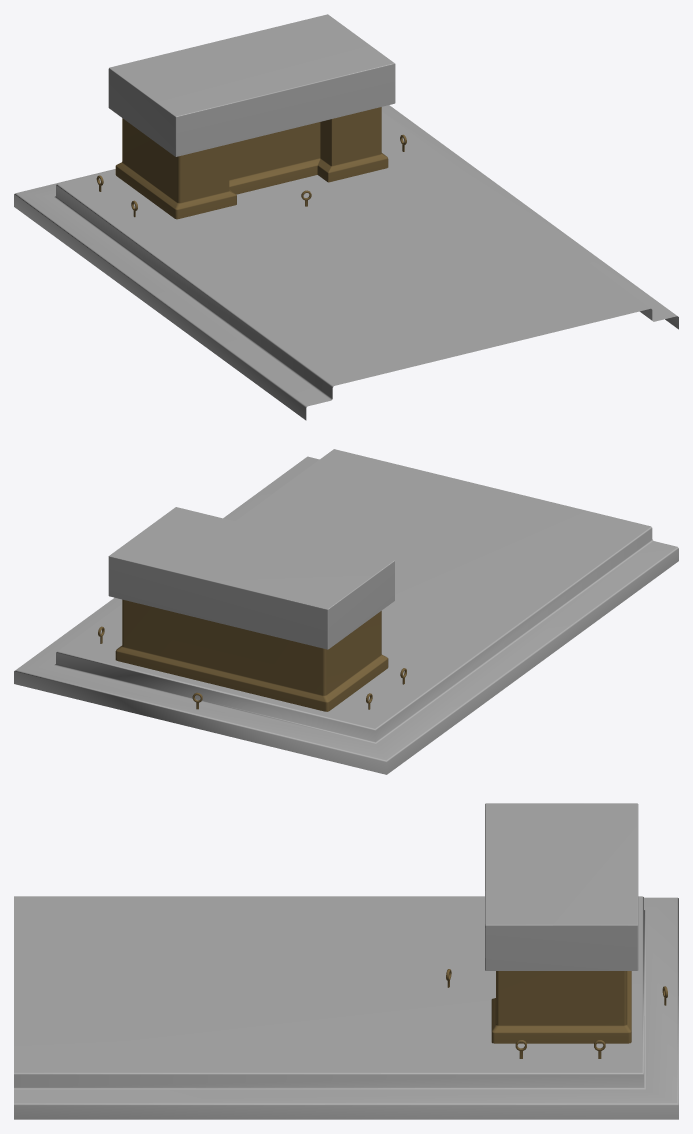
File: Altar.fbx
3 renders of one model, top to bottom at view 1: azimuth 30°, elevation 25°; view 2: azimuth 150°, elevation 25°; view 3: azimuth 270°, elevation 25°, orthographic. The views are drawn at different scales.
Parts seen in each view (by area): view 1: pCube8, pPlane18, pCube9; view 2: pCube8, pPlane18, pCube9; view 3: pCube8, pPlane18, pCube9.
Boxes of the visible parts, x1,y1,x2,y2 form: pCube8: (14,105,678,420); pPlane18: (108,14,395,156); pCube9: (115,107,388,219); pCube8: (14,449,678,774); pPlane18: (108,507,394,649); pCube9: (115,599,388,711); pCube8: (14,896,678,1119); pPlane18: (485,803,638,970); pCube9: (491,971,631,1043).
Bounding box in the file's own units: 350 × 120 × 475.
